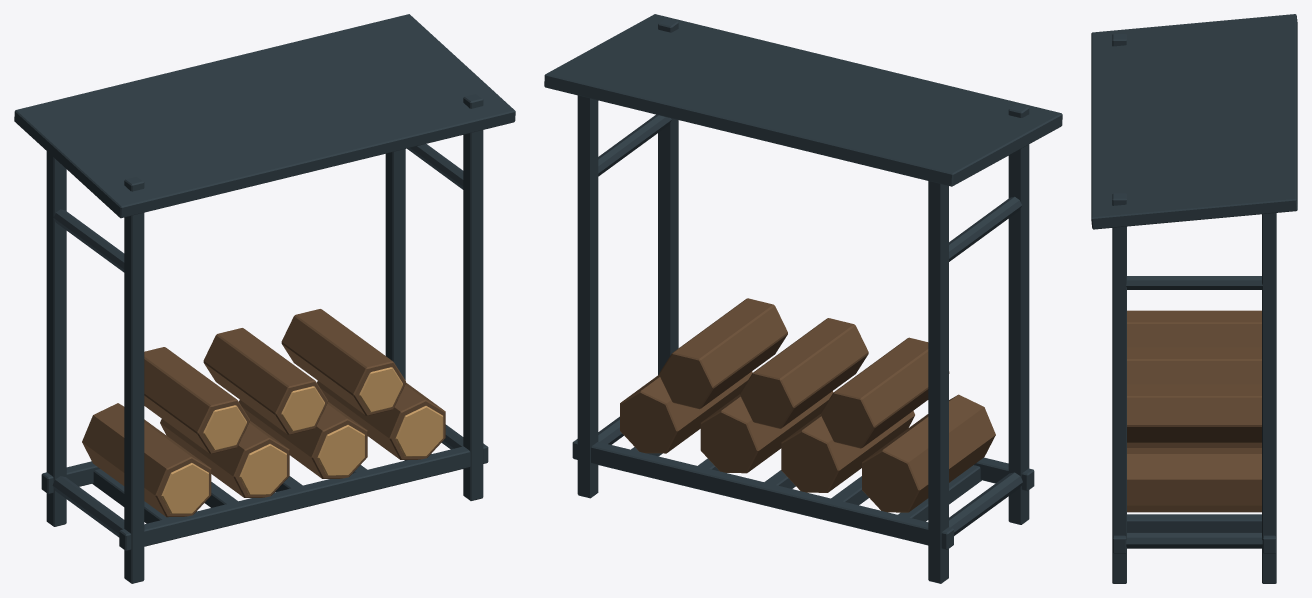
The model's file is b11_covered_firewood_rack.glb.
The picture shows the model from 3 angles, left to right: view 1: azimuth 30°, elevation 25°; view 2: azimuth 150°, elevation 25°; view 3: azimuth 270°, elevation 25°; orthographic projection. The views are drawn at different scales.
Visible parts, largest first — view 1: b11_covered_firewood_rack; view 2: b11_covered_firewood_rack; view 3: b11_covered_firewood_rack.
Part boxes in pixels (bbox=[...]): b11_covered_firewood_rack: bbox=[14, 14, 515, 583]; b11_covered_firewood_rack: bbox=[544, 14, 1062, 583]; b11_covered_firewood_rack: bbox=[1091, 14, 1297, 583].
Bounding box in the file's own units: 1.47 × 1.46 × 0.6902.
